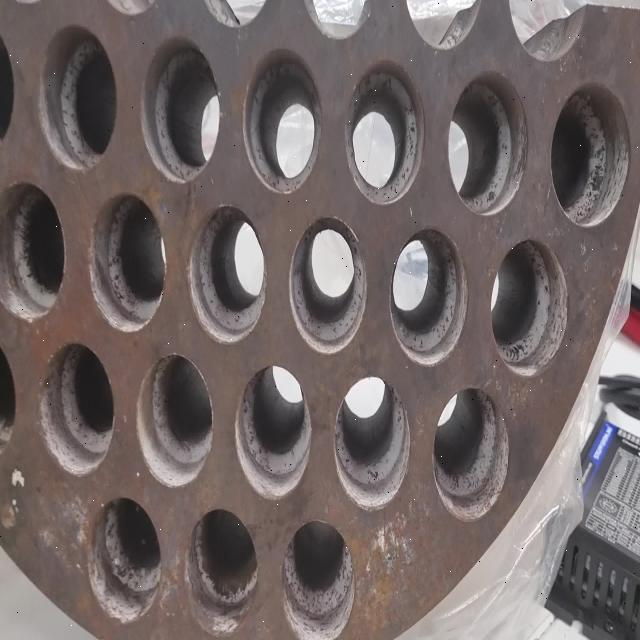Hole: (140, 36, 221, 184), (550, 81, 631, 228), (37, 23, 117, 171), (243, 46, 322, 195), (447, 70, 527, 216), (344, 60, 424, 206), (87, 192, 167, 333), (187, 203, 266, 345), (490, 237, 568, 377), (390, 226, 467, 366), (234, 363, 312, 501), (289, 216, 367, 354), (135, 352, 214, 488), (432, 386, 510, 522), (38, 340, 114, 478), (334, 376, 409, 512), (86, 494, 162, 623), (183, 506, 258, 635), (0, 180, 66, 322), (282, 519, 356, 639)
